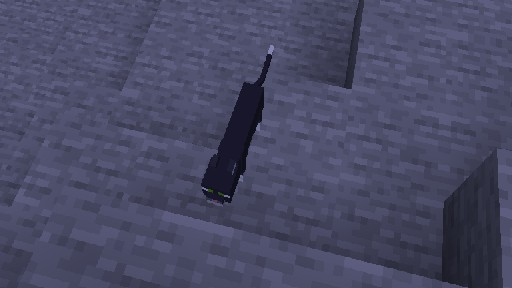cat: (200, 44, 274, 206)
